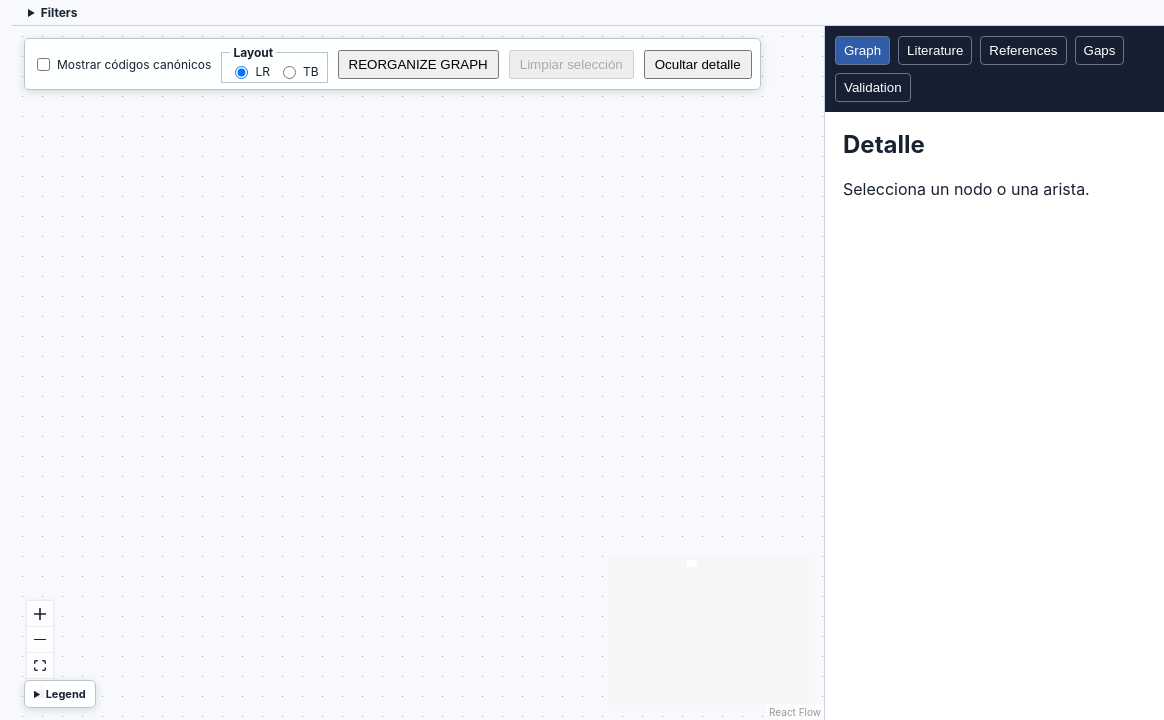
Test: GraphRenderer canonical simulator integration › inspects QUALIS literature literally, including review, provenance, and technical trace fields
Step 1. Click the button "Literature" → (935, 50), box [898,36,972,65]
(page scrolled)
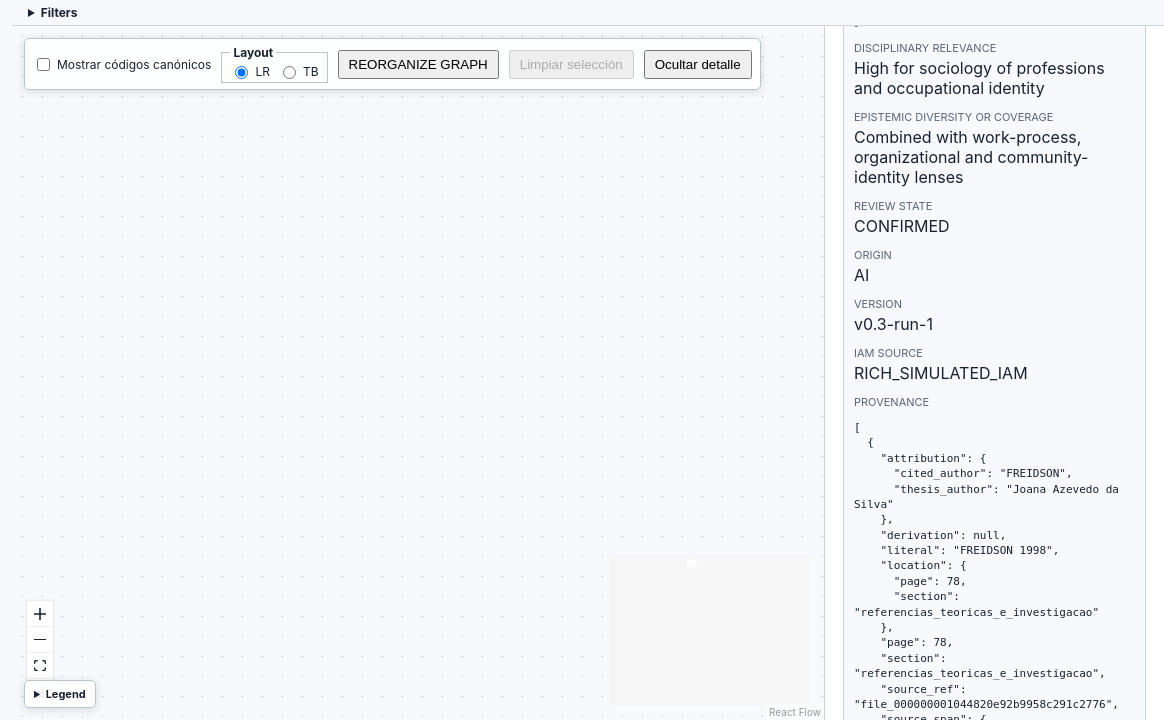
Now the text "\"source_unit_id\": \"SU-P078\"" is shown, box [854,421,1126,719]
Now the text "AI" is shown, box [854,265,869,285]
Now the text "v0.3-run-1" is shown, box [854,314,933,334]
